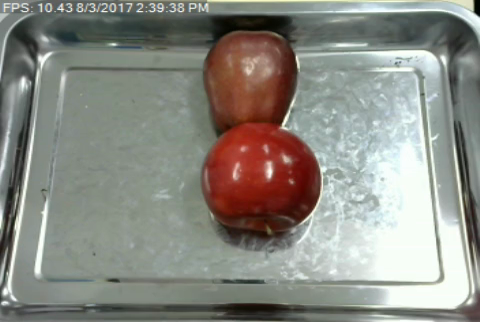Apple: (195, 121, 327, 237), (199, 27, 299, 136)
